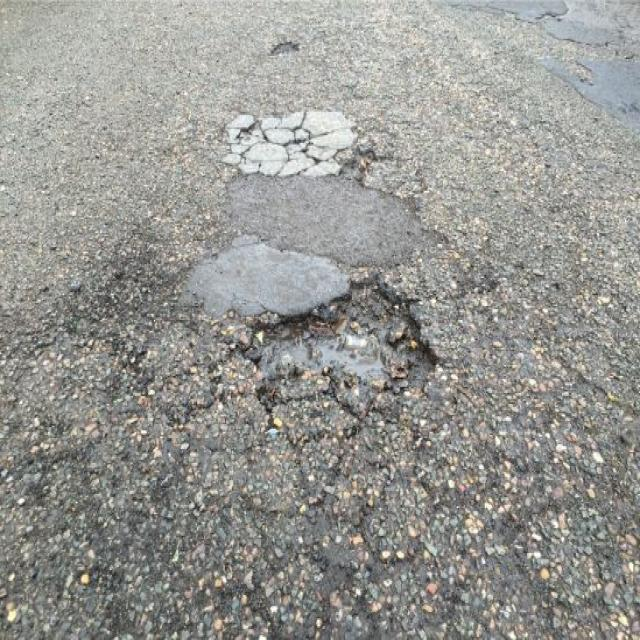pothole: (238, 272, 444, 419)
